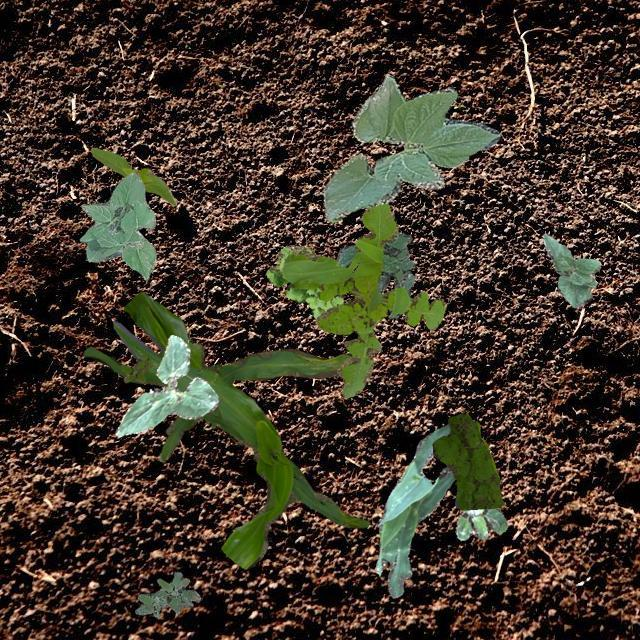crop: (82, 290, 368, 568), (322, 74, 498, 222), (374, 422, 454, 596), (114, 334, 220, 436), (78, 170, 154, 278), (90, 146, 176, 204), (542, 232, 600, 308)
weed: (282, 202, 446, 398), (432, 412, 504, 508), (336, 232, 414, 316), (266, 245, 342, 318), (134, 570, 200, 616), (456, 507, 506, 539), (120, 352, 152, 382)
